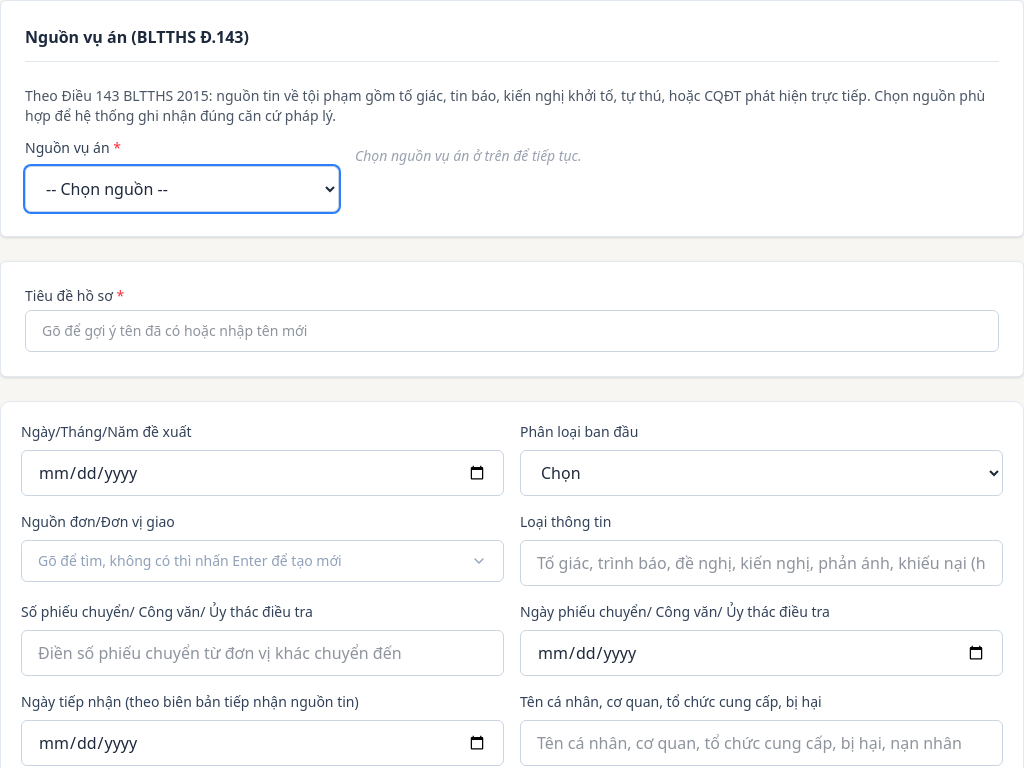
Form Vụ án — ô "Nguồn đơn/Đơn vị giao" chọn từ danh mục › chọn một mục thì giá trị VÀO form — không phải ô trang trí
Click the dropdown with test id "field-nguonDon-trigger": (262, 561) [21,540,504,582]
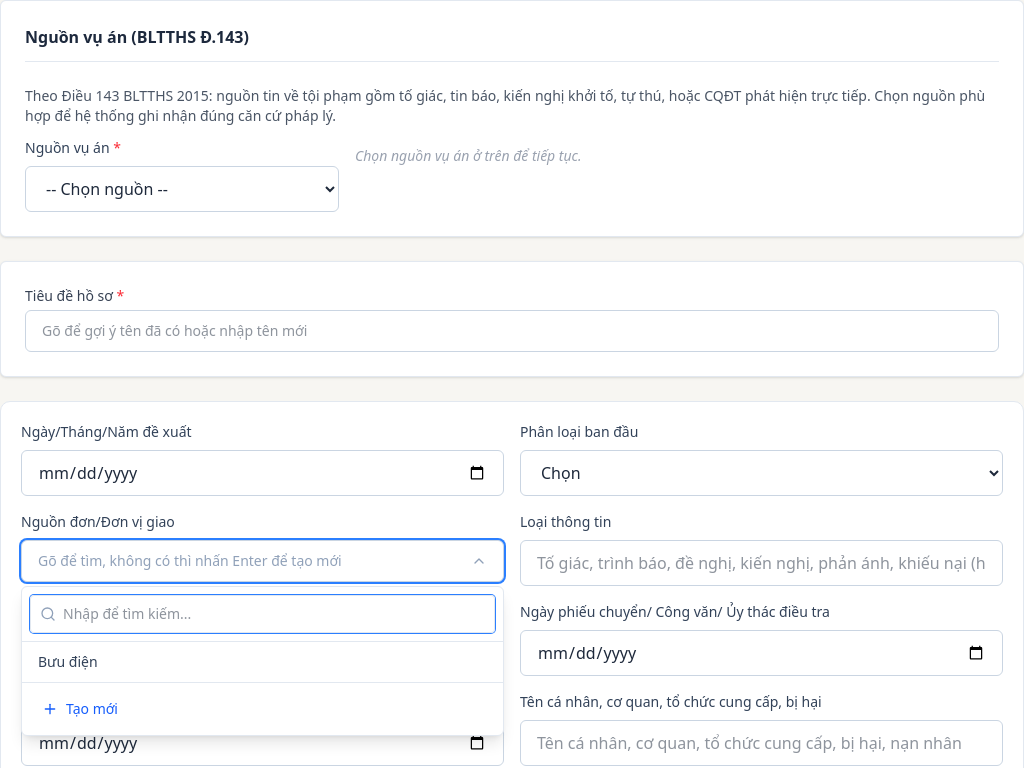
Click the option with test id "field-nguonDon-option-Bưu điện": (68, 662) [22,642,503,682]
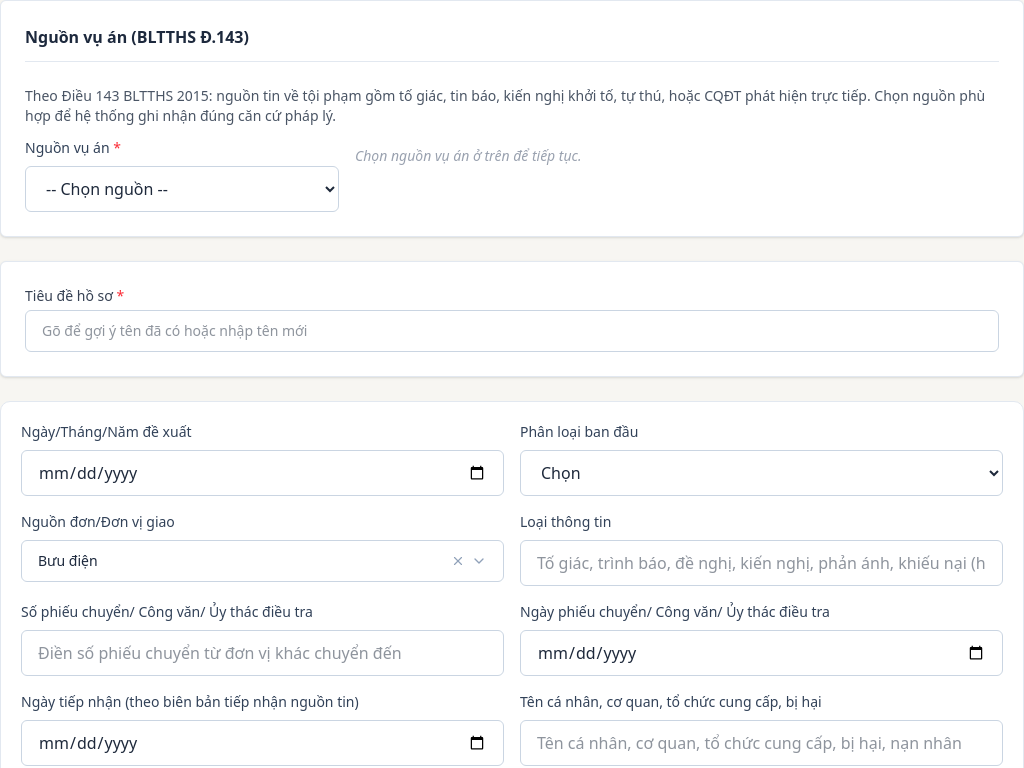
expect the dropdown with test id "field-nguonDon-trigger" reads "Bưu điện": met, box [21,540,504,582]
